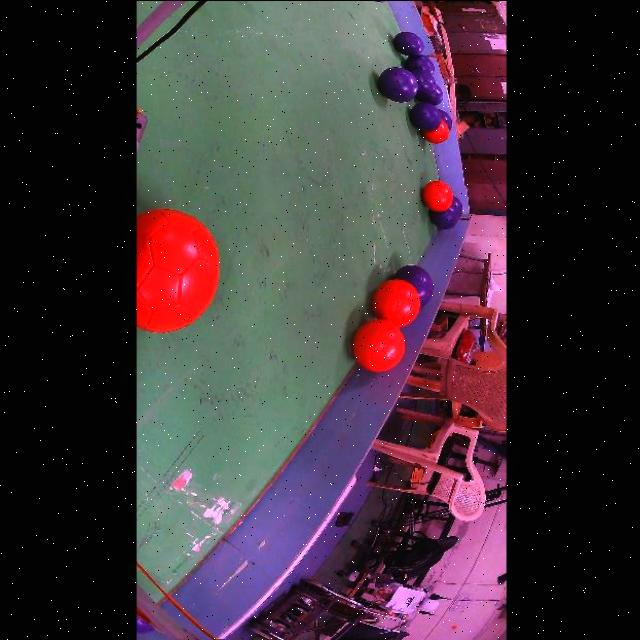P: (395, 264, 434, 307), (379, 66, 419, 101), (430, 195, 464, 228), (411, 101, 442, 131), (394, 30, 425, 55), (411, 68, 437, 97), (417, 84, 445, 105), (406, 54, 435, 73), (440, 109, 454, 129)
R: (137, 208, 219, 331), (353, 318, 406, 371), (374, 279, 421, 326), (423, 180, 454, 210), (421, 119, 450, 142)
